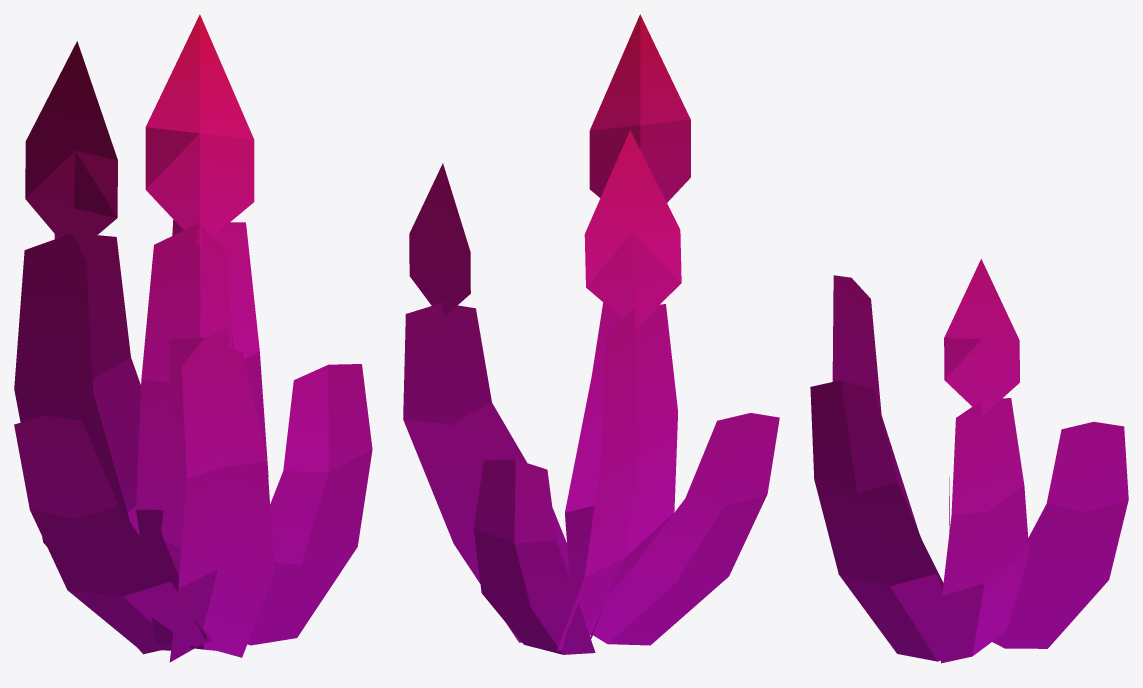
The model's file is SM_Plant_PurpleFlower_01.gltf.
3 renders of one model, left to right at view 1: azimuth 30°, elevation 25°; view 2: azimuth 150°, elevation 25°; view 3: azimuth 270°, elevation 25°, orthographic. The views are drawn at different scales.
Visible parts, largest first — view 1: SM_Plant_PurpleFlower_01; view 2: SM_Plant_PurpleFlower_01; view 3: SM_Plant_PurpleFlower_01.
Part boxes in pixels (x1,y1,x2,y2): SM_Plant_PurpleFlower_01: (14, 14, 372, 662); SM_Plant_PurpleFlower_01: (403, 14, 779, 654); SM_Plant_PurpleFlower_01: (810, 259, 1128, 663).
Size of the model in its own units: 0.6276 by 1.08 by 0.5049.
